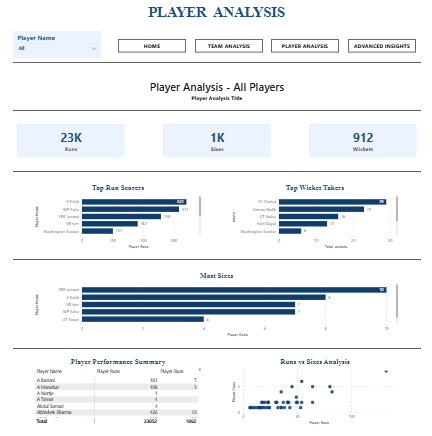

The dashboard page shown, as its layout file describes it:
{"tool":"powerbi","page":{"name":"Player Analysis","canvas":[1280,1500],"ordinal":2},"visuals":[{"type":"textbox","box":[0,18.5,1280,57.1],"z":0},{"type":"cardVisual","fields":{"Data":["Measure_Table.Player Analysis Title"]},"box":[372,240.7,536.1,99.8],"z":1000},{"type":"clusteredBarChart","title":"Top Run Scorers","fields":{"Category":["Dim_Player.Player Name"],"Y":["Measure_Table.Player Runs"]},"box":[94.4,653.5,500,200],"z":2000},{"type":"clusteredBarChart","title":"Most Sixes","fields":{"Category":["Dim_Player.Player Name"],"Y":["Measure_Table.Player Sixes"]},"box":[58.8,903.1,1175.5,200.3],"z":3000},{"type":"barChart","title":"Top Wicket Takers","fields":{"Category":["IPL_Data.bowler"],"Y":["Measure_Table.Total_wickets"]},"box":[694.4,653.5,500,200],"z":4000},{"type":"pivotTable","title":"Player Performance Summary","fields":{"Rows":["Dim_Player.Player Name"],"Values":["Measure_Table.Player Runs","Measure_Table.Player Sixes"]},"box":[94.8,1203.4,300.9,244.3],"z":5000},{"type":"shape","box":[49.6,163.4,1190,78.3],"z":6000},{"type":"shape","box":[49.6,300,1190,150],"z":7000},{"type":"shape","box":[44.4,807.8,1190,150],"z":8000},{"type":"shape","box":[44.4,1071.8,1190,150],"z":9000},{"type":"slicer","fields":{"Values":["Dim_Player.Player Name"]},"box":[45.4,96.4,255.1,82.2],"z":10000},{"type":"scatterChart","title":"Runs vs Sixes Analysis","fields":{"X":["Measure_Table.Player Runs"],"Y":["Measure_Table.Player Sixes"],"Category":["Dim_Player.Player Name"]},"box":[720.6,1204.4,473.7,200.3],"z":11000},{"type":"cardVisual","fields":{"Data":["Measure_Table.Player Runs"]},"box":[50,397.2,216.3,150.1],"z":12000},{"type":"cardVisual","fields":{"Data":["Measure_Table.Player Sixes"]},"box":[531.1,397.2,216.3,150.1],"z":13000},{"type":"cardVisual","fields":{"Data":["Measure_Table.Total_wickets"]},"box":[1018.1,397.2,216.3,150.1],"z":14000},{"type":"shape","box":[50,472.3,1188.8,150.1],"z":15000},{"type":"actionButton","box":[300,120,200,40.1],"z":16000},{"type":"actionButton","box":[960,120,200,40.1],"z":17000},{"type":"actionButton","box":[740,120,200,40.1],"z":18000},{"type":"actionButton","box":[520,120,200,40.1],"z":19000}]}

Visuals, with their boxes on the page's 1280x1500 design canvas (x1, y1, x2, y2). These are canvas units, not pixel positions in the 432x436 screenshot, which may show the page scaled, cropped or inside an application window:
textbox: 0/18/1280/76
cardVisual - Measure_Table.Player Analysis Title: 372/241/908/340
"Top Run Scorers" clusteredBarChart: 94/654/594/854
"Most Sixes" clusteredBarChart: 59/903/1234/1103
"Top Wicket Takers" barChart: 694/654/1194/854
"Player Performance Summary" pivotTable: 95/1203/396/1448
shape: 50/163/1240/242
shape: 50/300/1240/450
shape: 44/808/1234/958
shape: 44/1072/1234/1222
slicer - Dim_Player.Player Name: 45/96/300/179
"Runs vs Sixes Analysis" scatterChart: 721/1204/1194/1405
cardVisual - Measure_Table.Player Runs: 50/397/266/547
cardVisual - Measure_Table.Player Sixes: 531/397/747/547
cardVisual - Measure_Table.Total_wickets: 1018/397/1234/547
shape: 50/472/1239/622
actionButton: 300/120/500/160
actionButton: 960/120/1160/160
actionButton: 740/120/940/160
actionButton: 520/120/720/160
